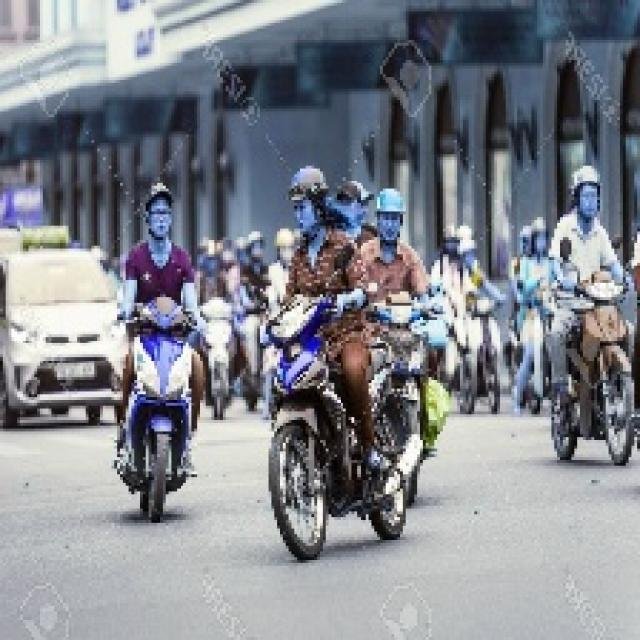bike: (260, 314, 403, 562), (538, 248, 632, 470), (120, 307, 200, 518)
